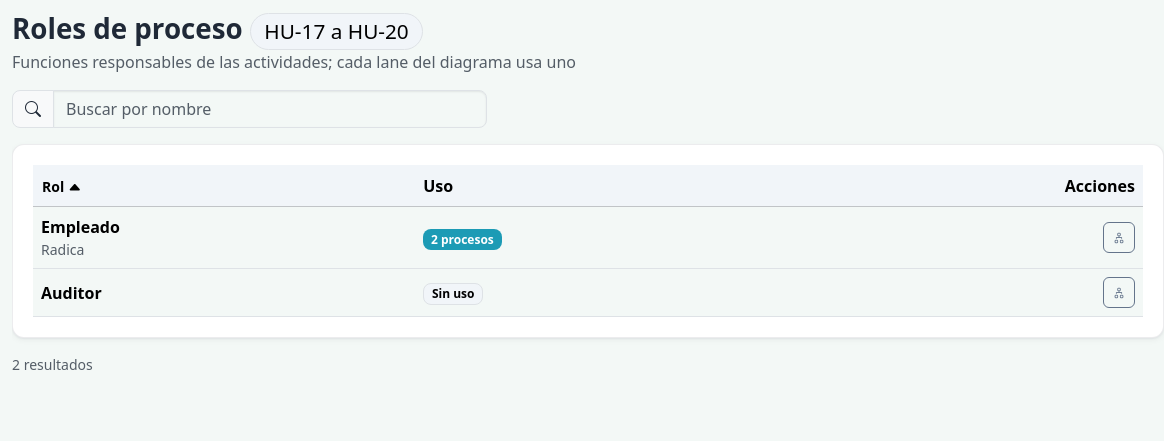
Test case: RolesProcesoComponent (HU-17 a HU-20) › el panel de uso lista los procesos y el historial del rol
The image size is (1164, 441).
What coordinates should you click on to do the following:
click the button named "Ver uso de Empleado"
I would click on:
 (1119, 238)
Its box is [1103,222,1135,253].
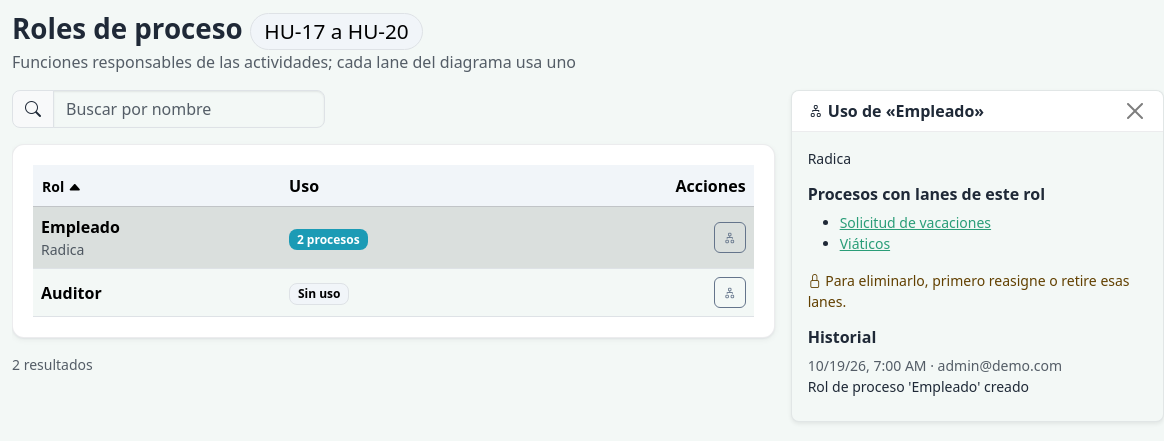
Expected: the element with id "usoRol" shows "Solicitud de vacaciones", [840,213,991,232]
Expected: the element with id "usoRol" shows "Viáticos", [840,234,890,253]
Expected: the element with id "usoRol" shows "Rol de proceso 'Empleado' creado", [808,378,1029,396]
